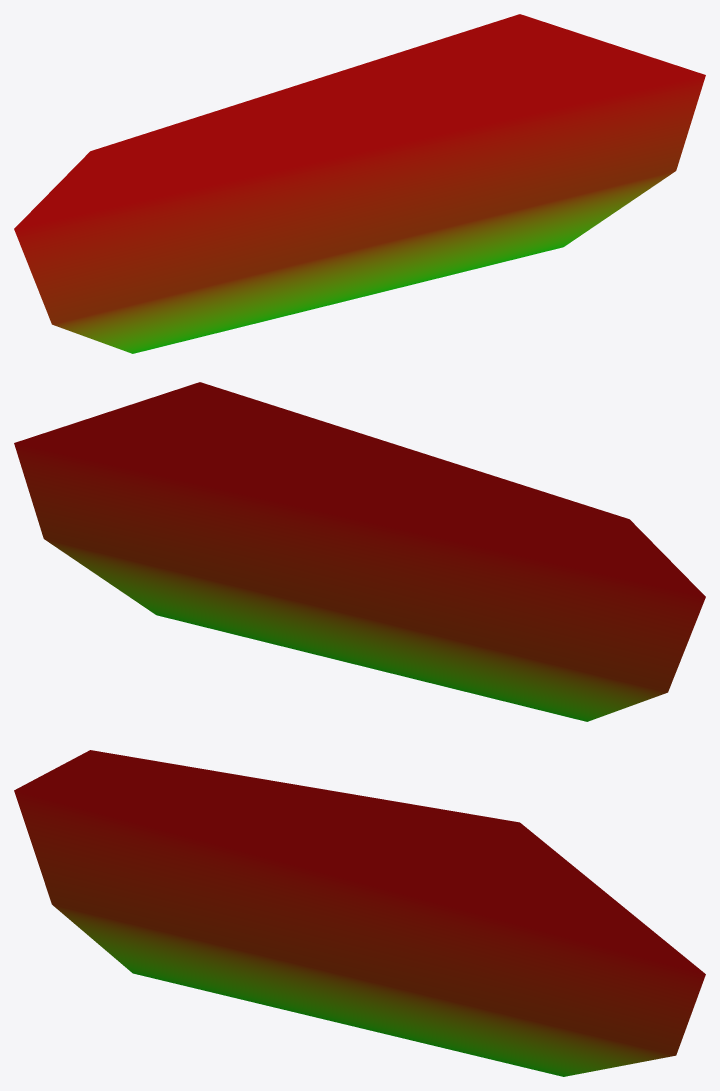
File: Var19_LOD4.fbx
The picture shows the model from 3 angles, top to bottom: view 1: azimuth 30°, elevation 25°; view 2: azimuth 150°, elevation 25°; view 3: azimuth 330°, elevation 25°; orthographic projection.
Visible parts, largest first — view 1: _hgou_Var19_LOD4; view 2: _hgou_Var19_LOD4; view 3: _hgou_Var19_LOD4.
Boxes of the visible parts, left/top/right/bottom form: _hgou_Var19_LOD4: left=14, top=14, right=705, bottom=353; _hgou_Var19_LOD4: left=14, top=382, right=705, bottom=721; _hgou_Var19_LOD4: left=14, top=750, right=705, bottom=1076.
Size of the model in its own units: 47.12 by 15.97 by 6.79e-07.
